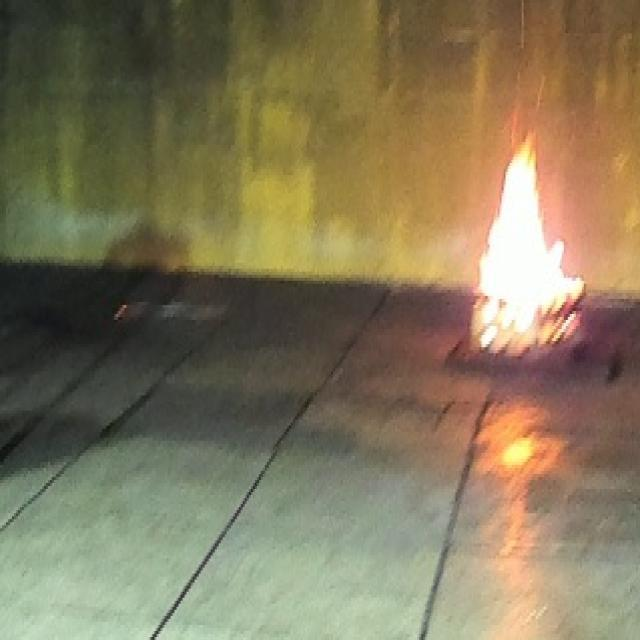Fire: (472, 126, 585, 358)
